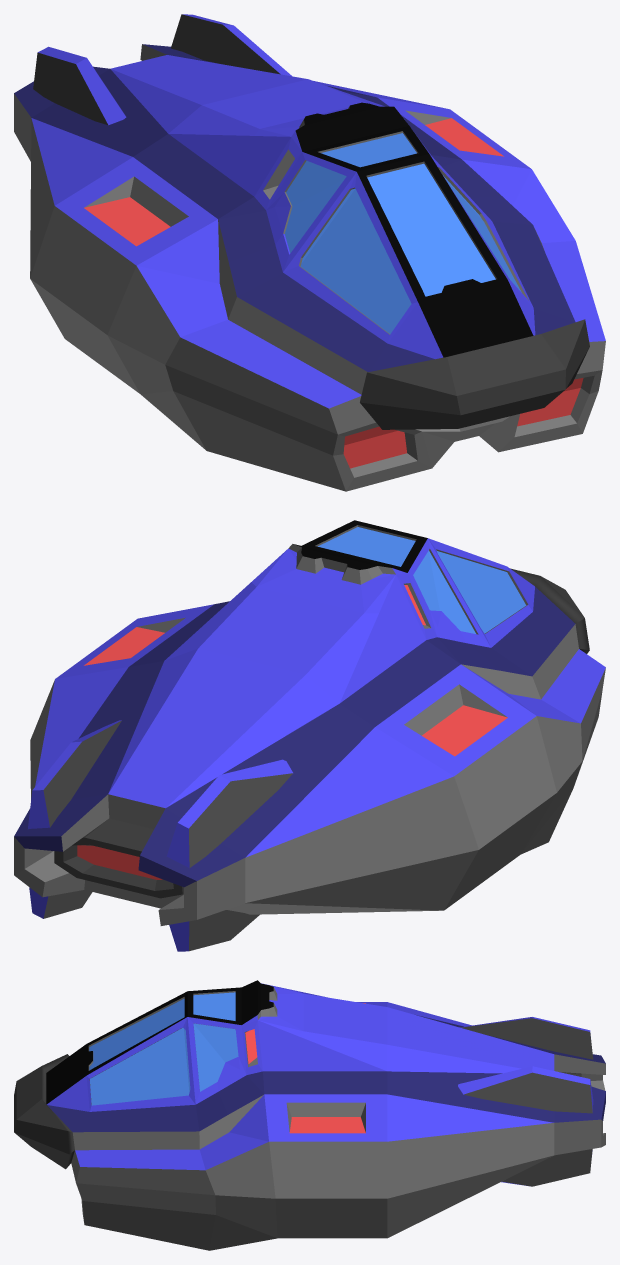
Rendered from Ship_2x3_B2.fbx.
3 renders of one model, top to bottom at view 1: azimuth 30°, elevation 25°; view 2: azimuth 150°, elevation 25°; view 3: azimuth 270°, elevation 25°, orthographic. The views are drawn at different scales.
Visible parts, largest first — view 1: Ship_2x3_B2; view 2: Ship_2x3_B2; view 3: Ship_2x3_B2.
Part boxes in pixels (x1,y1,x2,y2): Ship_2x3_B2: (14, 14, 605, 491); Ship_2x3_B2: (14, 520, 605, 951); Ship_2x3_B2: (14, 980, 605, 1250).
Size of the model in its own units: 174 by 99.93 by 277.
